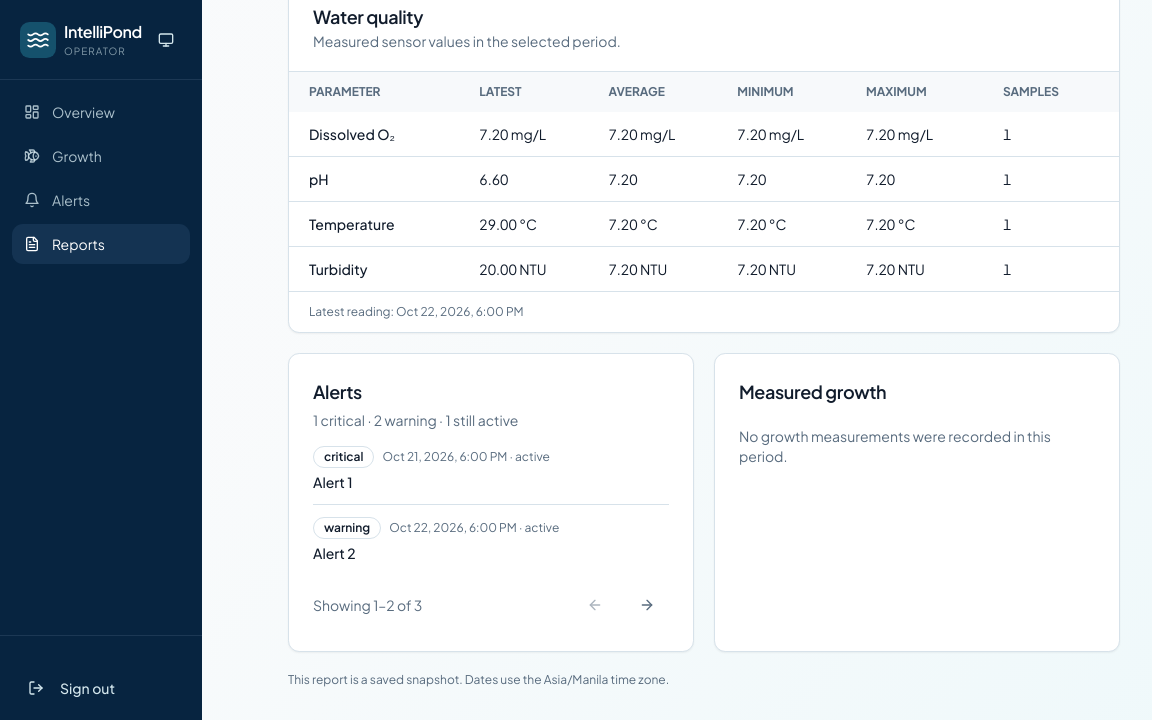
Test: Operator reports › pages two alerts on screen while keeping every saved alert available for print
This screenshot has width=1152, height=720.
(page scrolled)
Expected: the text "Alert 1" is shown, [313,473,353,491]
Expected: the text "Alert 2" is shown, [313,544,356,562]
Click the button named "Next alert page" at (647, 605), box [625,583,669,627]
(page scrolled)
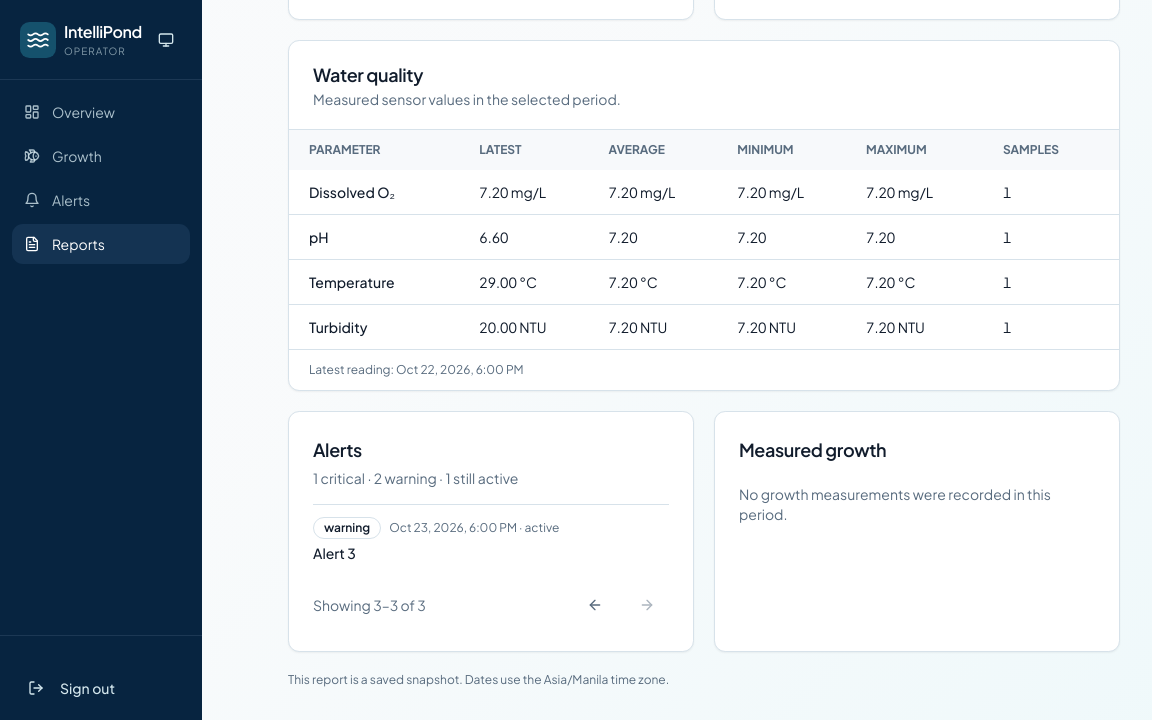
Expected: the text "Showing 3–3 of 3" is shown, [313,595,426,615]
